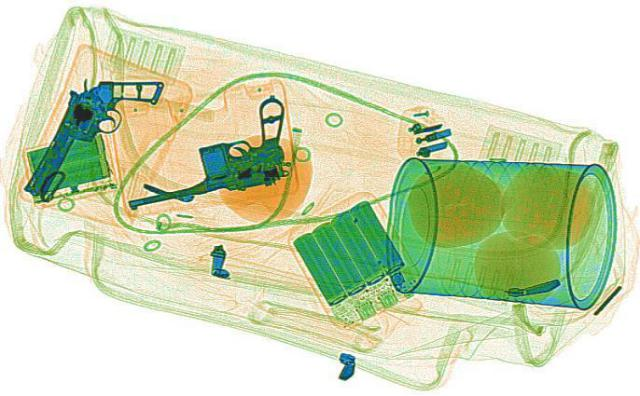Gun: (84, 93, 323, 207), (23, 69, 165, 205)
